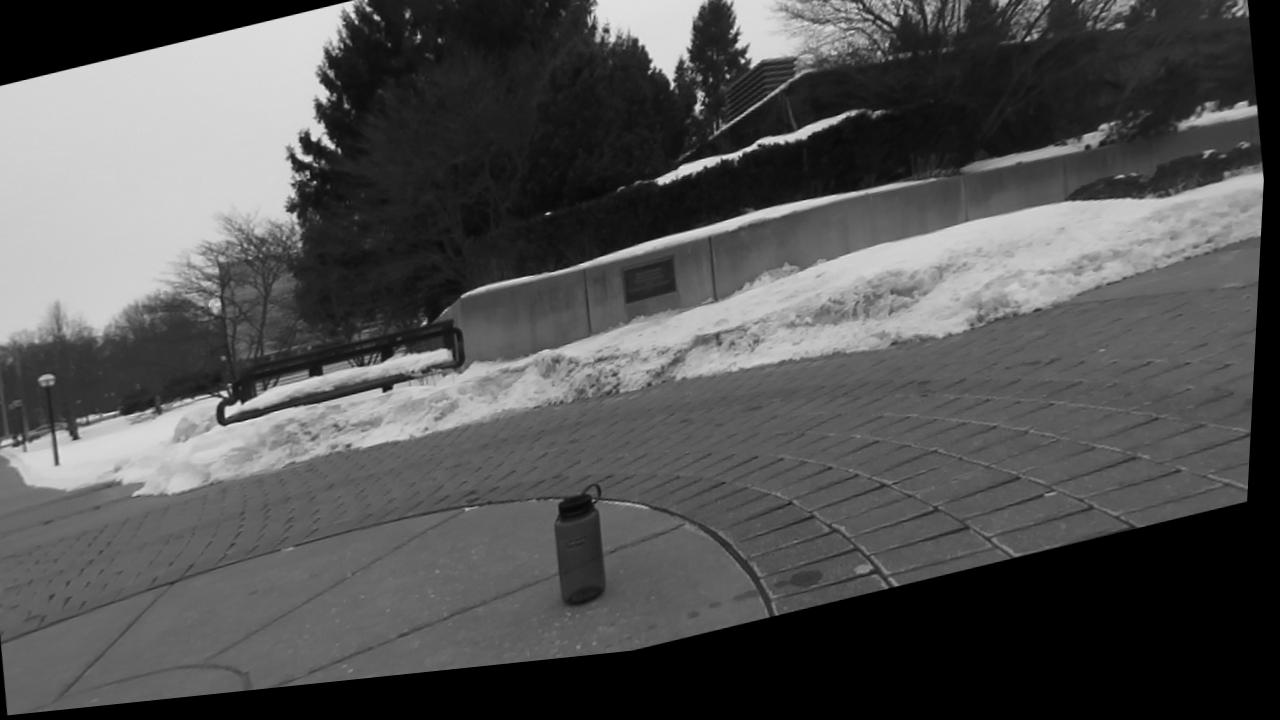bottle: (553, 485, 605, 604)
